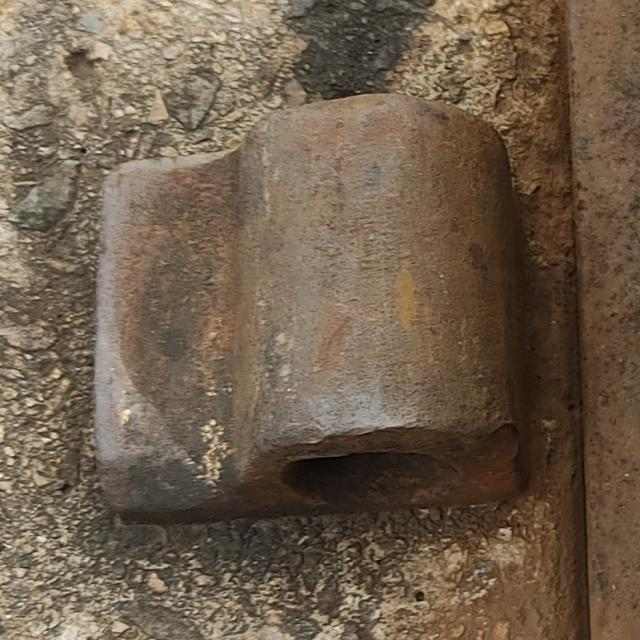track_bolt_missing: (228, 82, 530, 510)
